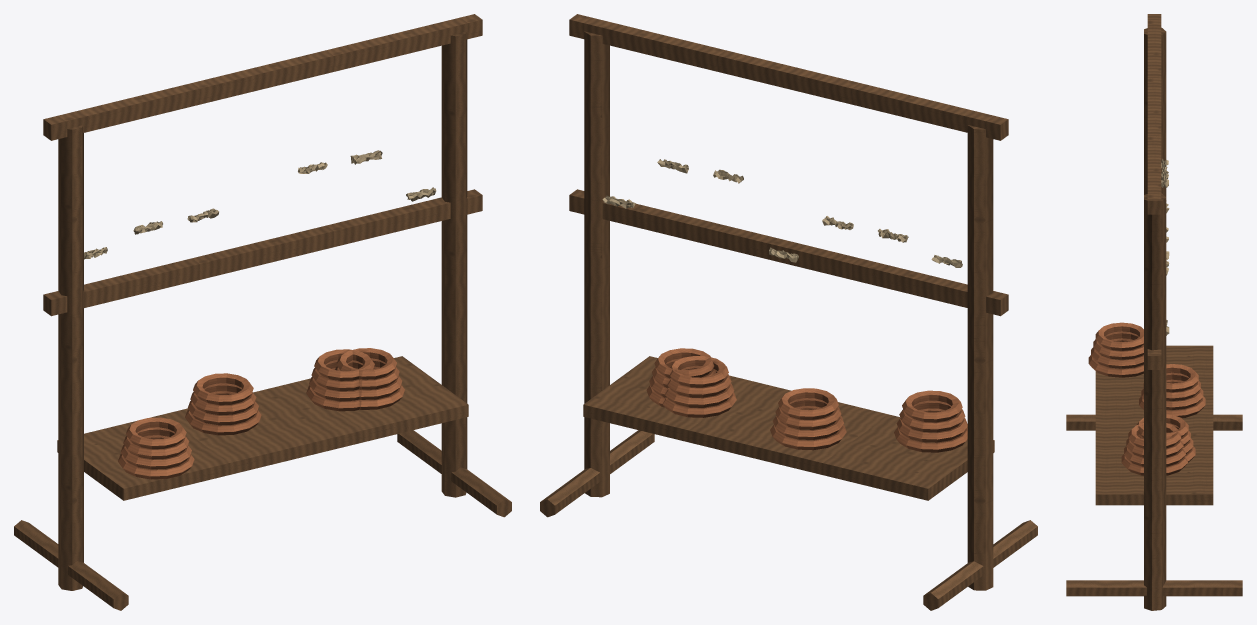
File: rack_rope.glb
3 views of the same model, side by side, from view 1: azimuth 30°, elevation 25°; view 2: azimuth 150°, elevation 25°; view 3: azimuth 270°, elevation 25° (orthographic). The views are drawn at different scales.
Visible parts, largest first — view 1: rack_rope; view 2: rack_rope; view 3: rack_rope.
Boxes of the visible parts, bbox=[...] form: rack_rope: bbox=[14, 14, 511, 610]; rack_rope: bbox=[540, 14, 1037, 610]; rack_rope: bbox=[1066, 14, 1242, 610].
Size of the model in its own units: 2.25 by 2.34 by 0.9.
Materials: 3 (3 with a texture image).
